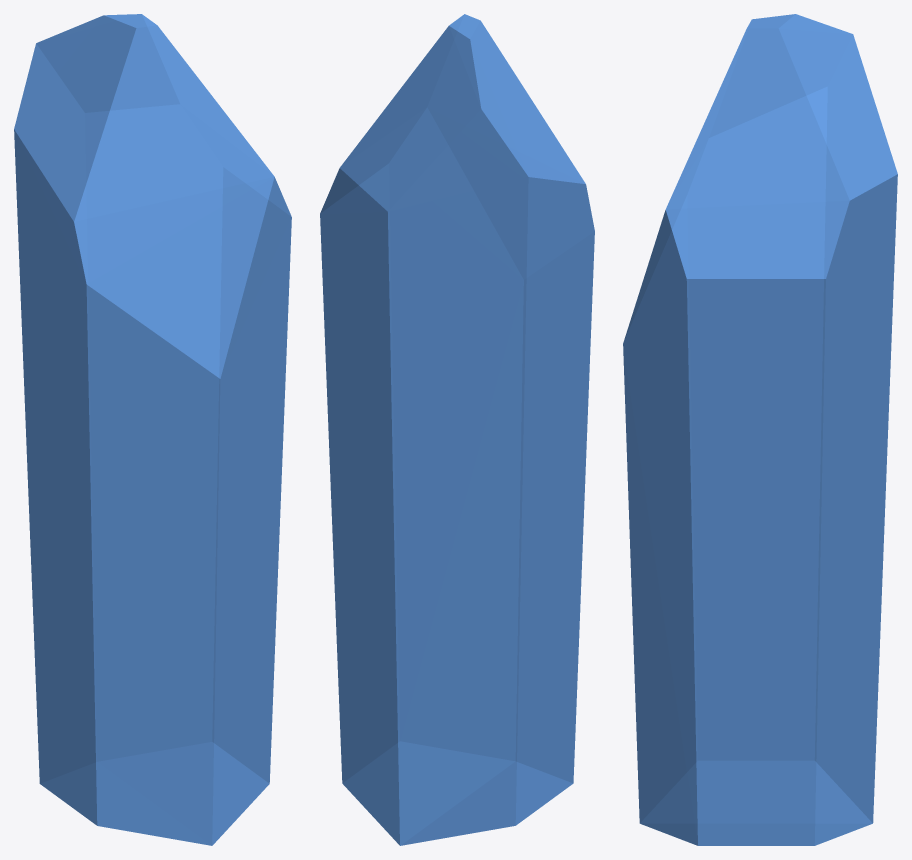
Rendered from Crystal_m_07.fbx.
3 views of the same model, side by side, from view 1: azimuth 30°, elevation 25°; view 2: azimuth 150°, elevation 25°; view 3: azimuth 270°, elevation 25° (orthographic).
Parts seen in each view (by area): view 1: Crystal_m_07; view 2: Crystal_m_07; view 3: Crystal_m_07.
Boxes of the visible parts, x1,y1,x2,y2 form: Crystal_m_07: (14, 14, 291, 845); Crystal_m_07: (320, 14, 594, 845); Crystal_m_07: (623, 14, 897, 845).
Bounding box in the file's own units: 0.457 × 1.64 × 0.5143.
